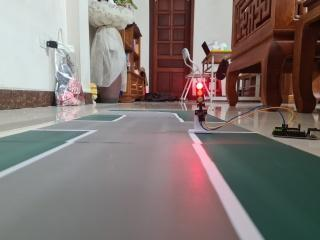red: (190, 76, 211, 113)
